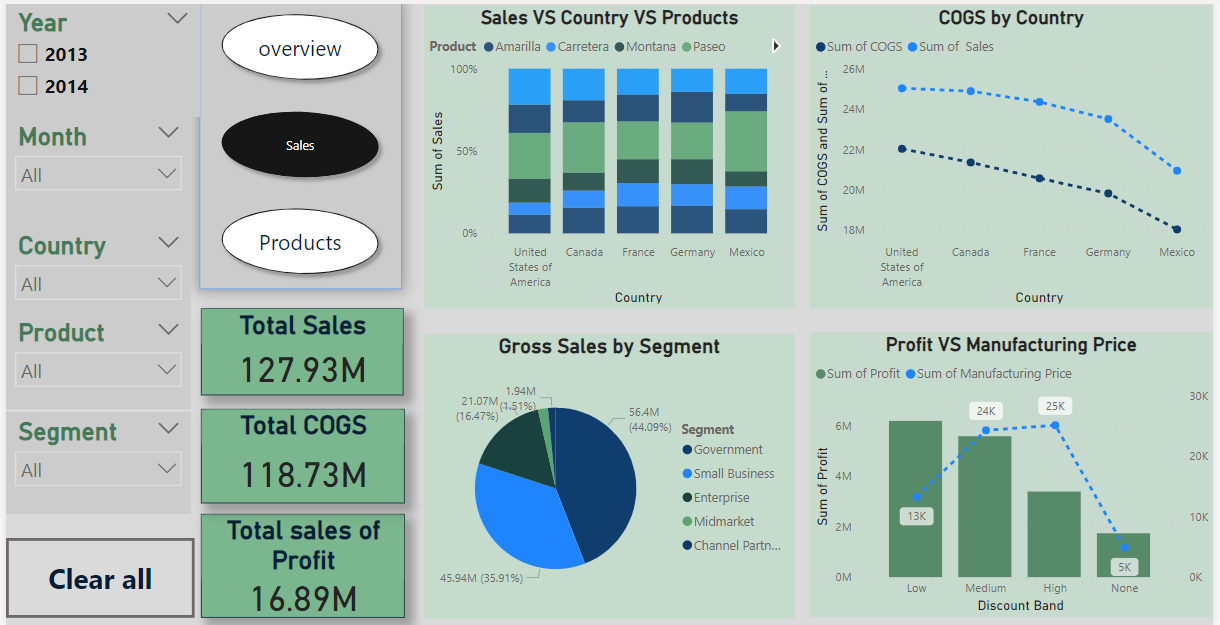

The dashboard page shown, as its layout file describes it:
{"tool":"powerbi","page":{"name":"Sales","canvas":[1280,720],"ordinal":1},"visuals":[{"type":"textbox","box":[9.5,0,1270.9,55.7],"z":0},{"type":"pageNavigator","box":[205.2,55.7,214.7,303.8],"z":1000},{"type":"slicer","fields":{"Values":["financials.Year"]},"box":[0,55.8,205.9,121.2],"z":2000},{"type":"slicer","fields":{"Values":["financials.Month Name"]},"box":[0,177,196.2,121.2],"z":3000},{"type":"slicer","fields":{"Values":["financials.Country"]},"box":[0,292.4,196.2,92.3],"z":4000},{"type":"slicer","fields":{"Values":["financials.Product"]},"box":[0,384.8,196.2,102],"z":5000},{"type":"slicer","fields":{"Values":["financials.Segment"]},"box":[0,490.6,196.2,107.7],"z":6000},{"type":"card","title":"Total Sales","fields":{"Values":["Sum(financials.Gross Sales)"]},"box":[206.8,380.2,214.7,92.3],"z":7000},{"type":"card","title":"Total sales of Profit","fields":{"Values":["Sum(financials.Profit)"]},"box":[206.8,598.1,216.3,109.8],"z":8000},{"type":"card","title":"Total COGS","fields":{"Values":["Sum(financials. Sales)"]},"box":[206.8,486.7,216.3,100.2],"z":9000},{"type":"pieChart","title":"Gross Sales by Segment","fields":{"Category":["financials.Segment"],"Y":["Sum(financials.Gross Sales)"]},"box":[444.4,407.9,392.5,302],"z":10000},{"type":"lineStackedColumnComboChart","title":" Profit VS Manufacturing Price","fields":{"Category":["financials.Discount Band"],"Y":["Sum(financials.Profit)"],"Y2":["Sum(financials.Manufacturing Price)"]},"box":[852.3,405.9,427.1,302],"z":11000},{"type":"lineChart","title":"COGS  by Country","fields":{"Category":["financials.Country"],"Y":["Sum(financials.COGS)","Sum(financials. Sales)"]},"box":[852.3,59.6,427.1,321.3],"z":12000},{"type":"actionButton","box":[0,623.3,200.1,84.6],"z":13000},{"type":"hundredPercentStackedColumnChart","title":" Sales  VS Country VS Products","fields":{"Category":["financials.Country"],"Y":["Sum(financials. Sales)"],"Series":["financials.Product"]},"box":[444.4,59.6,392.5,321.3],"z":14000}]}

Visuals, with their boxes on the page's 1280x720 design canvas (x1, y1, x2, y2). These are canvas units, not pixel positions in the 1220x625 screenshot, which may show the page scaled, cropped or inside an application window:
textbox: bbox=(10, 0, 1280, 56)
pageNavigator: bbox=(205, 56, 420, 360)
slicer - financials.Year: bbox=(0, 56, 206, 177)
slicer - financials.Month Name: bbox=(0, 177, 196, 298)
slicer - financials.Country: bbox=(0, 292, 196, 385)
slicer - financials.Product: bbox=(0, 385, 196, 487)
slicer - financials.Segment: bbox=(0, 491, 196, 598)
"Total Sales" card: bbox=(207, 380, 422, 472)
"Total sales of Profit" card: bbox=(207, 598, 423, 708)
"Total COGS" card: bbox=(207, 487, 423, 587)
"Gross Sales by Segment" pieChart: bbox=(444, 408, 837, 710)
" Profit VS Manufacturing Price" lineStackedColumnComboChart: bbox=(852, 406, 1279, 708)
"COGS  by Country" lineChart: bbox=(852, 60, 1279, 381)
actionButton: bbox=(0, 623, 200, 708)
" Sales  VS Country VS Products" hundredPercentStackedColumnChart: bbox=(444, 60, 837, 381)
